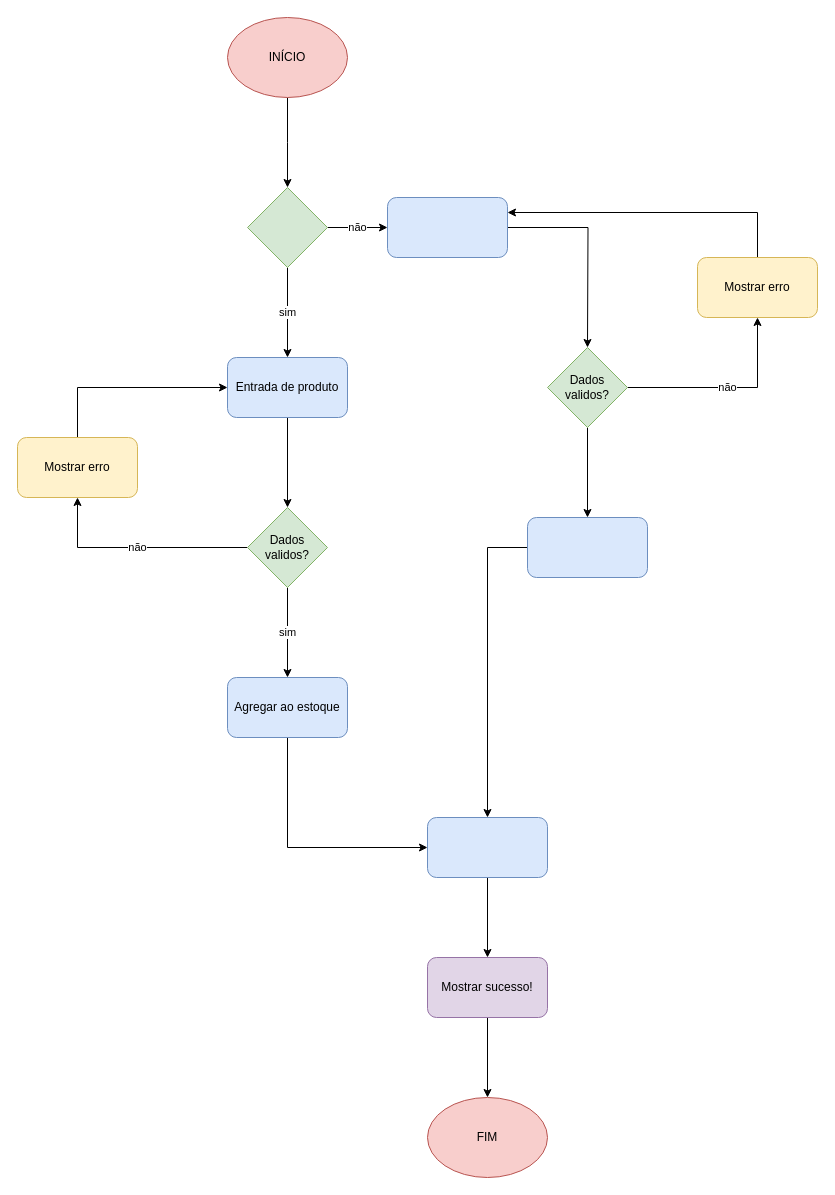
The diagram is 835 pixels wide and 1195 high, and some of its shapes have lost their labels. The centre of each missing label's shape, as x and y in pixels:
"chegada de produto" belongs at [287,227].
"Fazer listagem" belongs at [487,847].
"Preparar para a entrega" belongs at [587,547].
"Saida de produto" belongs at [447,227].
